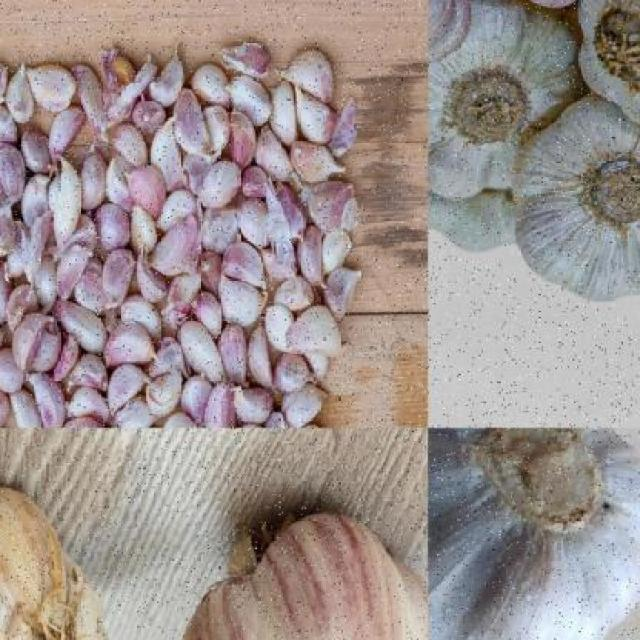garlic: (0, 41, 358, 427), (428, 428, 640, 640), (428, 0, 604, 202), (170, 510, 427, 639), (510, 100, 639, 303), (0, 480, 135, 639)
